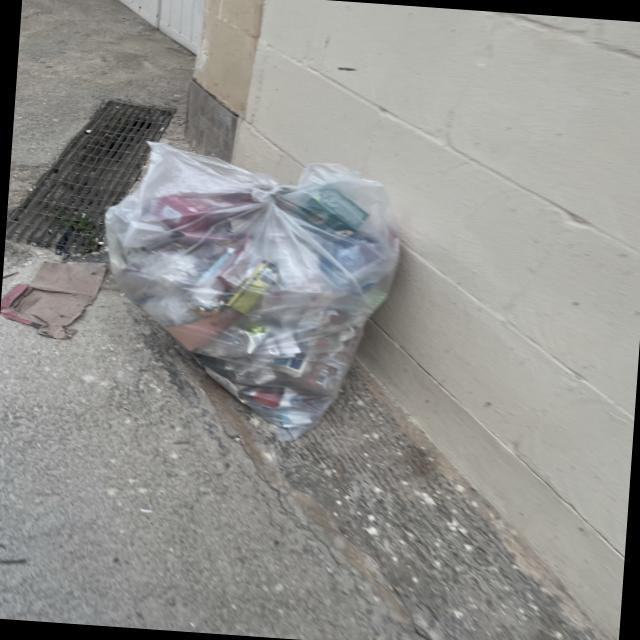grey_bag: (82, 134, 414, 444)
